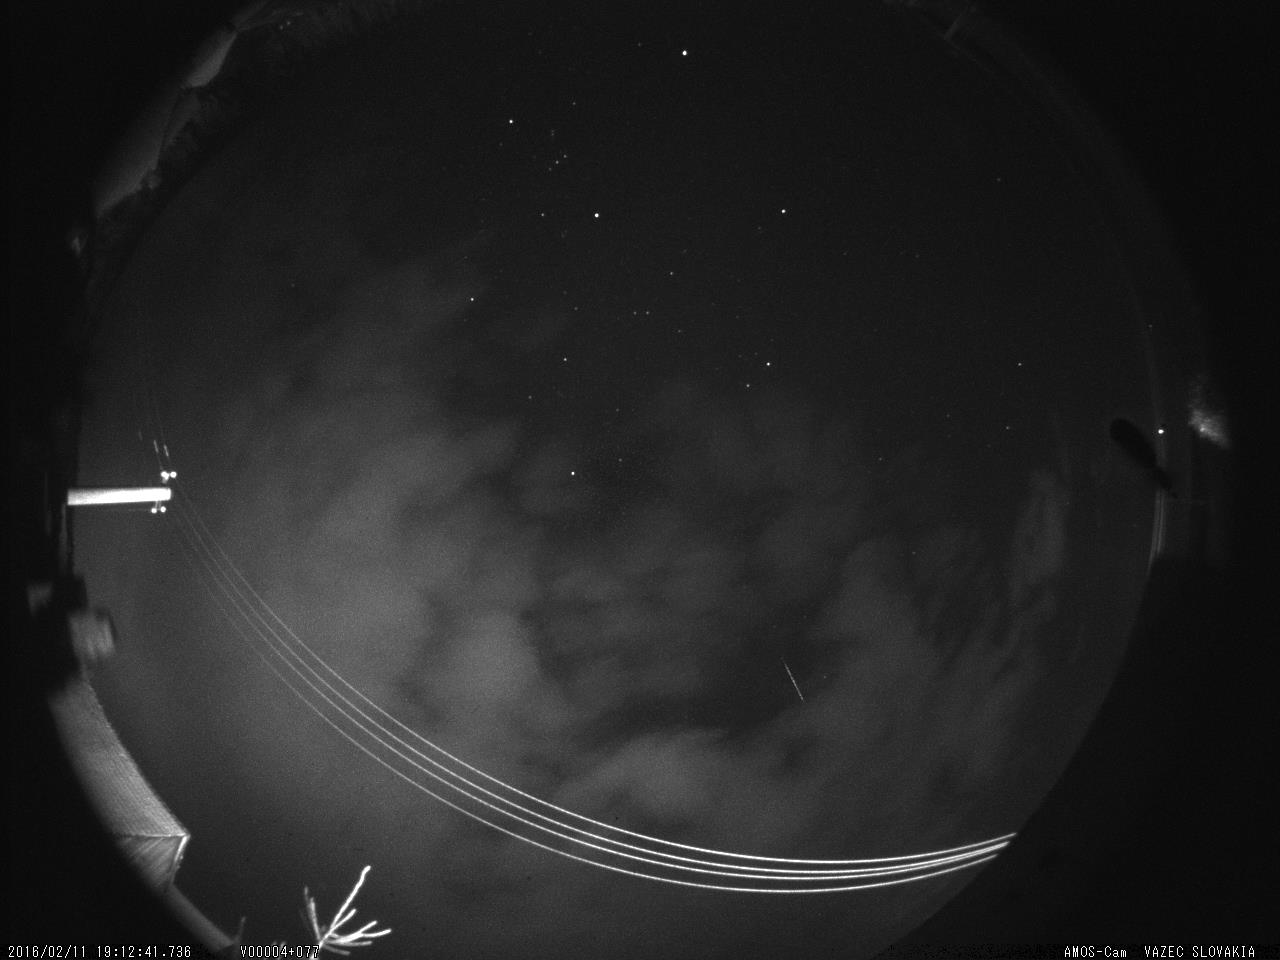meteor: (772, 648, 816, 711)
